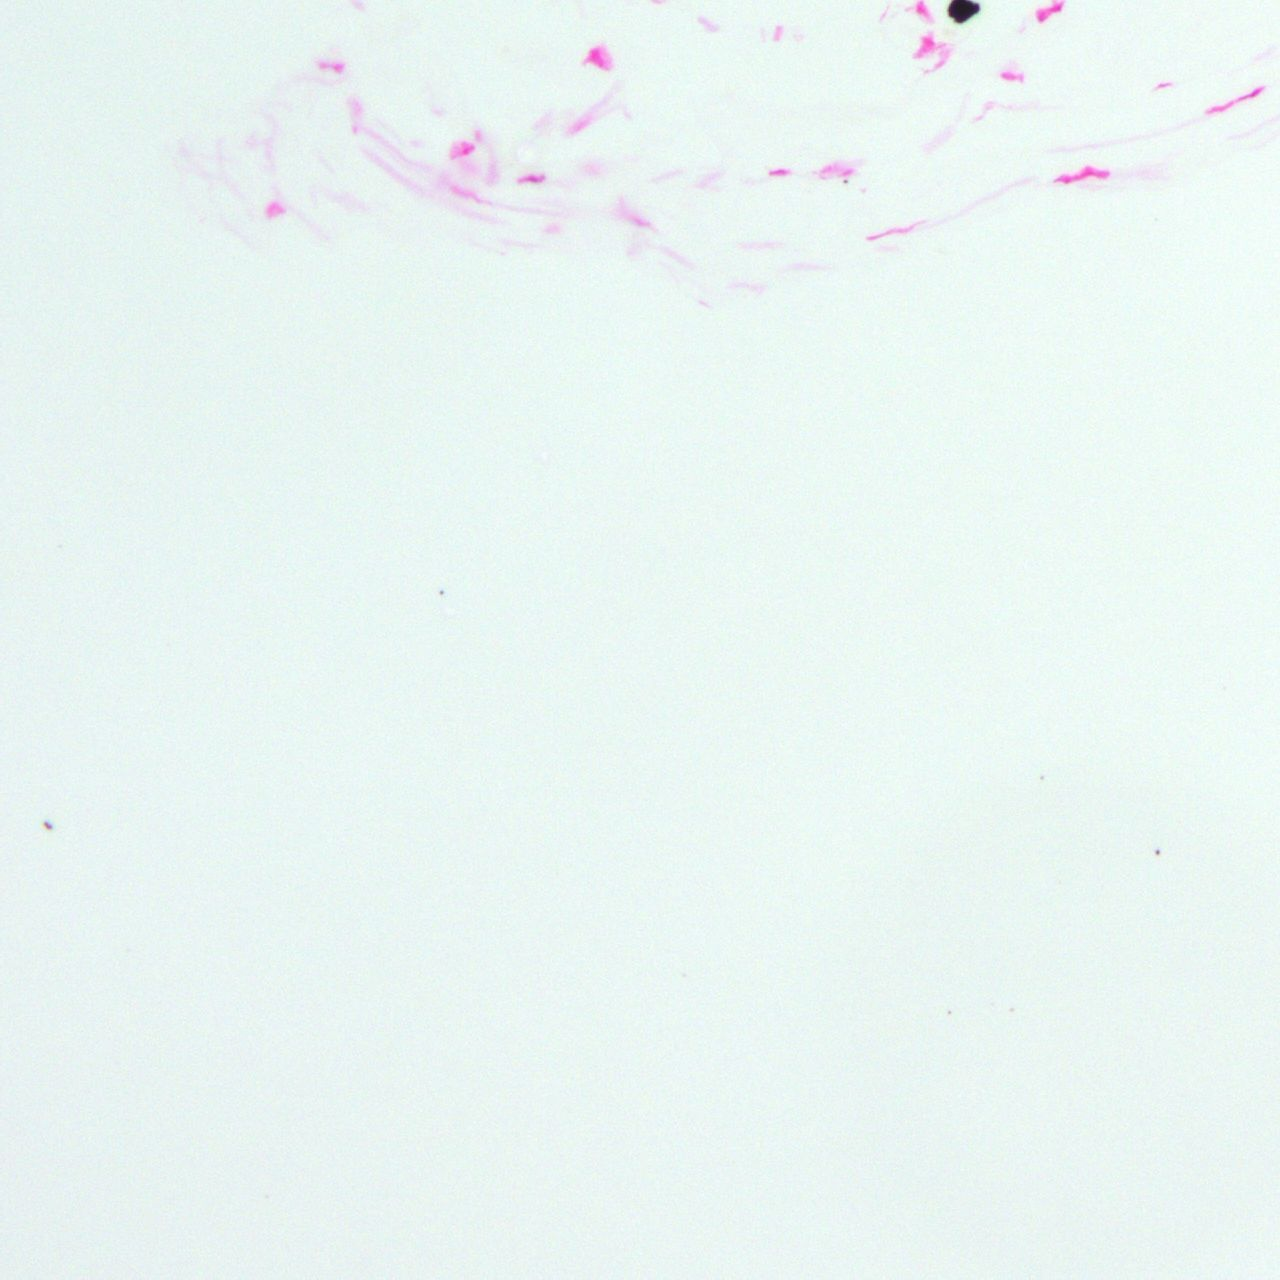dust: (41, 821, 54, 831), (1153, 845, 1162, 858), (946, 1008, 953, 1017), (438, 590, 445, 597), (1039, 774, 1046, 779), (1008, 1005, 1013, 1013), (843, 178, 847, 185)
nucleus-FG: (1208, 84, 1265, 116), (1055, 165, 1108, 184), (517, 175, 542, 183), (590, 48, 601, 64), (769, 168, 788, 173)
